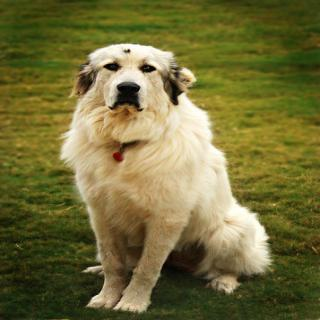dog: (68, 45, 275, 314)
